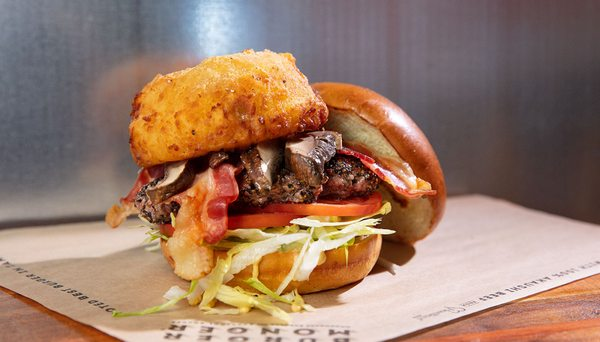soup: (104, 48, 448, 312)
